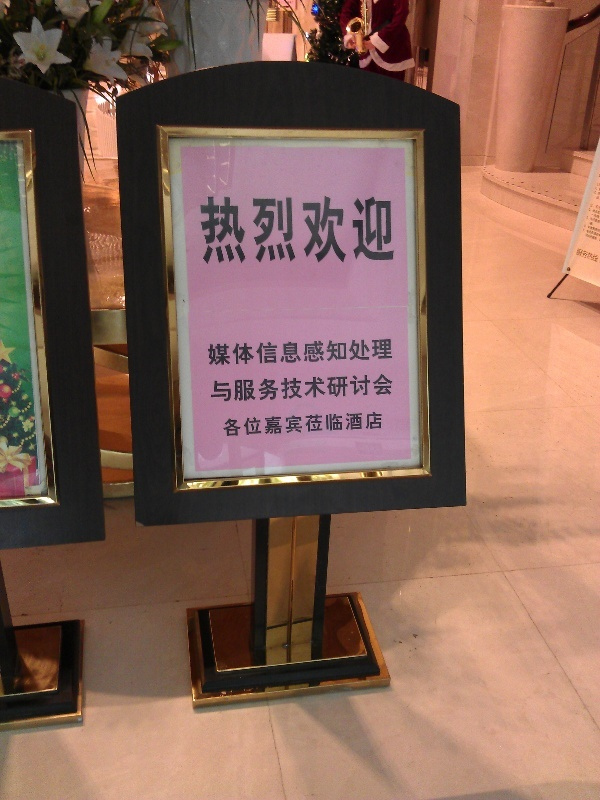text: (209, 193, 224, 266), (225, 193, 240, 266), (241, 193, 256, 266), (257, 193, 272, 266), (273, 193, 288, 266), (289, 193, 304, 266), (305, 193, 320, 266), (321, 193, 336, 266), (337, 193, 352, 266), (353, 193, 368, 266), (369, 193, 384, 266), (197, 193, 208, 266), (385, 193, 396, 266), (225, 372, 240, 404), (241, 372, 256, 404), (257, 372, 272, 404), (273, 372, 288, 404), (289, 372, 304, 404), (305, 372, 320, 404), (321, 372, 336, 404), (337, 372, 352, 404), (353, 372, 368, 404), (369, 372, 384, 404), (209, 337, 224, 367), (225, 337, 240, 367), (241, 337, 256, 367), (257, 337, 272, 367), (273, 337, 288, 367), (289, 337, 304, 367), (305, 337, 320, 367), (321, 337, 336, 367), (337, 337, 352, 367), (353, 337, 368, 367), (369, 337, 384, 367), (210, 372, 224, 404), (225, 410, 240, 438), (241, 410, 256, 438), (257, 410, 272, 438), (273, 410, 288, 438), (289, 410, 304, 438), (305, 410, 320, 438), (321, 410, 336, 438), (337, 410, 352, 438), (353, 410, 368, 438), (369, 410, 384, 438), (385, 337, 395, 367), (385, 372, 394, 404), (222, 410, 224, 438), (207, 337, 208, 367)
